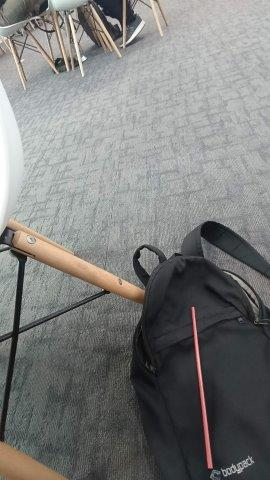sedotan: (191, 307, 213, 469)
